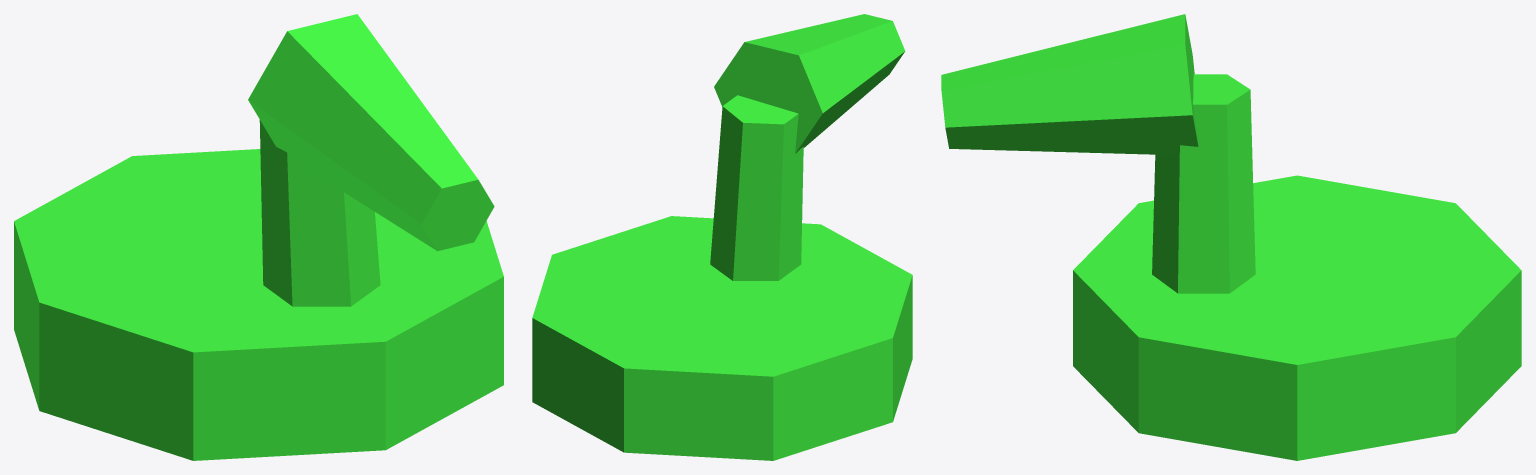
The model's file is viper_collision.fbx.
3 renders of one model, left to right at view 1: azimuth 30°, elevation 25°; view 2: azimuth 150°, elevation 25°; view 3: azimuth 270°, elevation 25°, orthographic. The views are drawn at different scales.
Parts seen in each view (by area): view 1: Viper_CollisionProxy; view 2: Viper_CollisionProxy; view 3: Viper_CollisionProxy.
Part boxes in pixels (left/top/right/bottom): Viper_CollisionProxy: left=14, top=14, right=503, bottom=460; Viper_CollisionProxy: left=532, top=14, right=912, bottom=460; Viper_CollisionProxy: left=941, top=14, right=1521, bottom=460.
Size of the model in its own units: 7.2 by 5.97 by 9.31.
